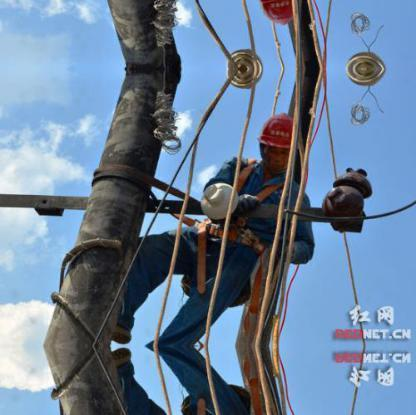helmet: (256, 108, 301, 155)
